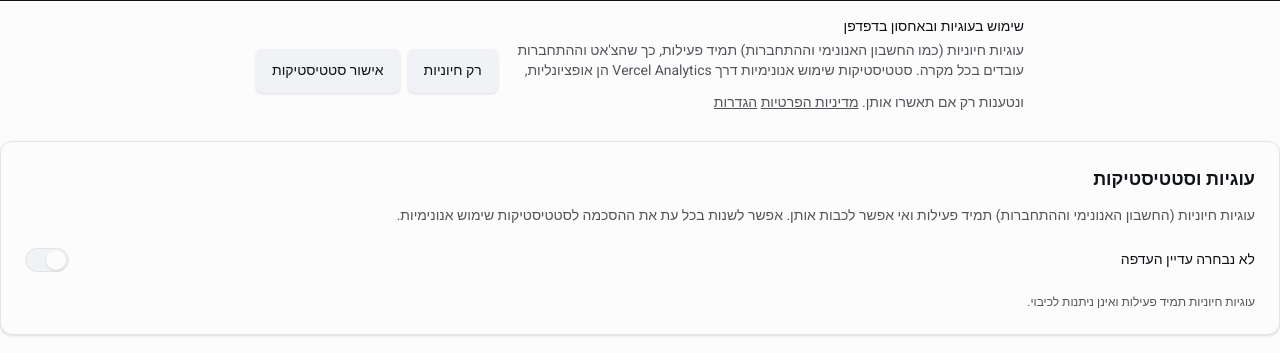
Test: CookiePreferences › a toggle from settings hides a mounted CookieBanner via the shared store event
Expected: the element "שימוש בעוגיות ובאחסון בדפדפן" is shown, [0,0,1279,141]
Click the switch at (47, 260), box [25,238,69,282]
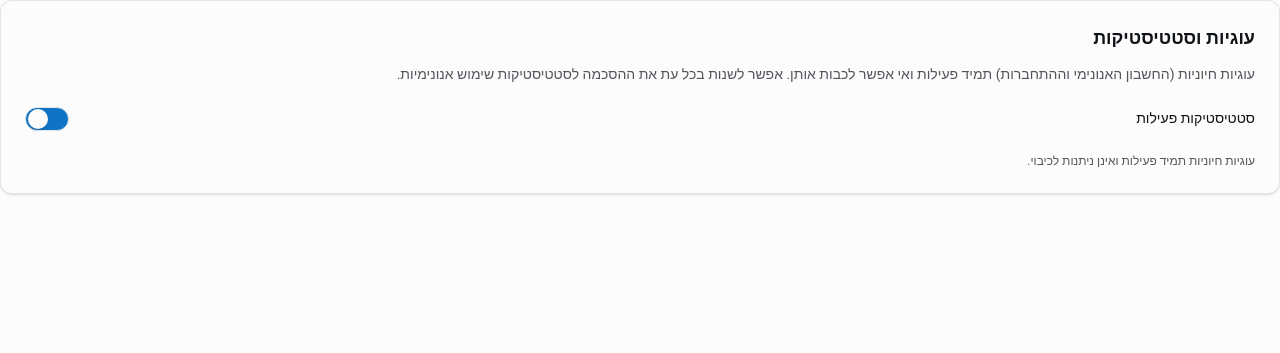
Expected: the heading "שימוש בעוגיות ובאחסון בדפדפן" is gone
